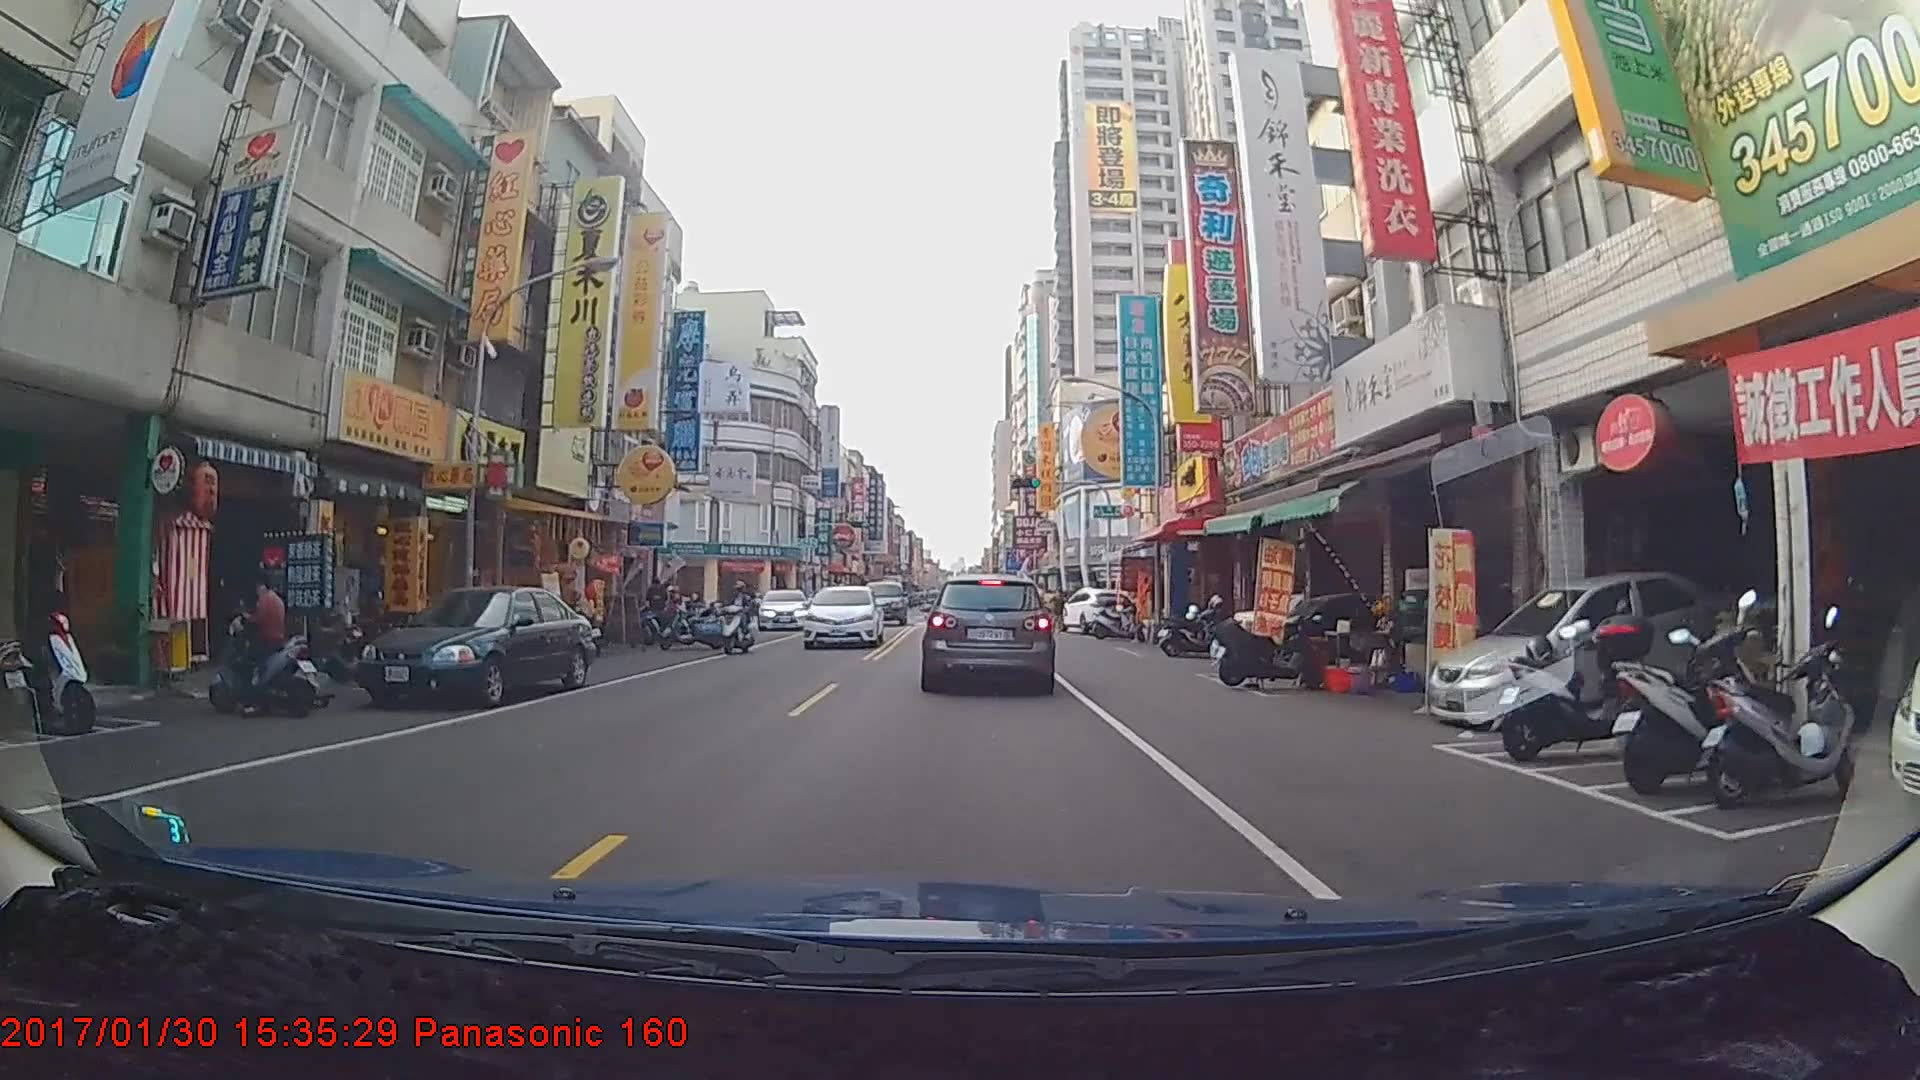pedestrian: (1049, 588, 1069, 637)
rider: (209, 567, 327, 722), (715, 582, 762, 657)
vehicle: (356, 584, 596, 703), (922, 573, 1054, 691), (801, 576, 881, 643), (1056, 583, 1140, 634), (754, 585, 811, 629), (858, 576, 906, 623)
